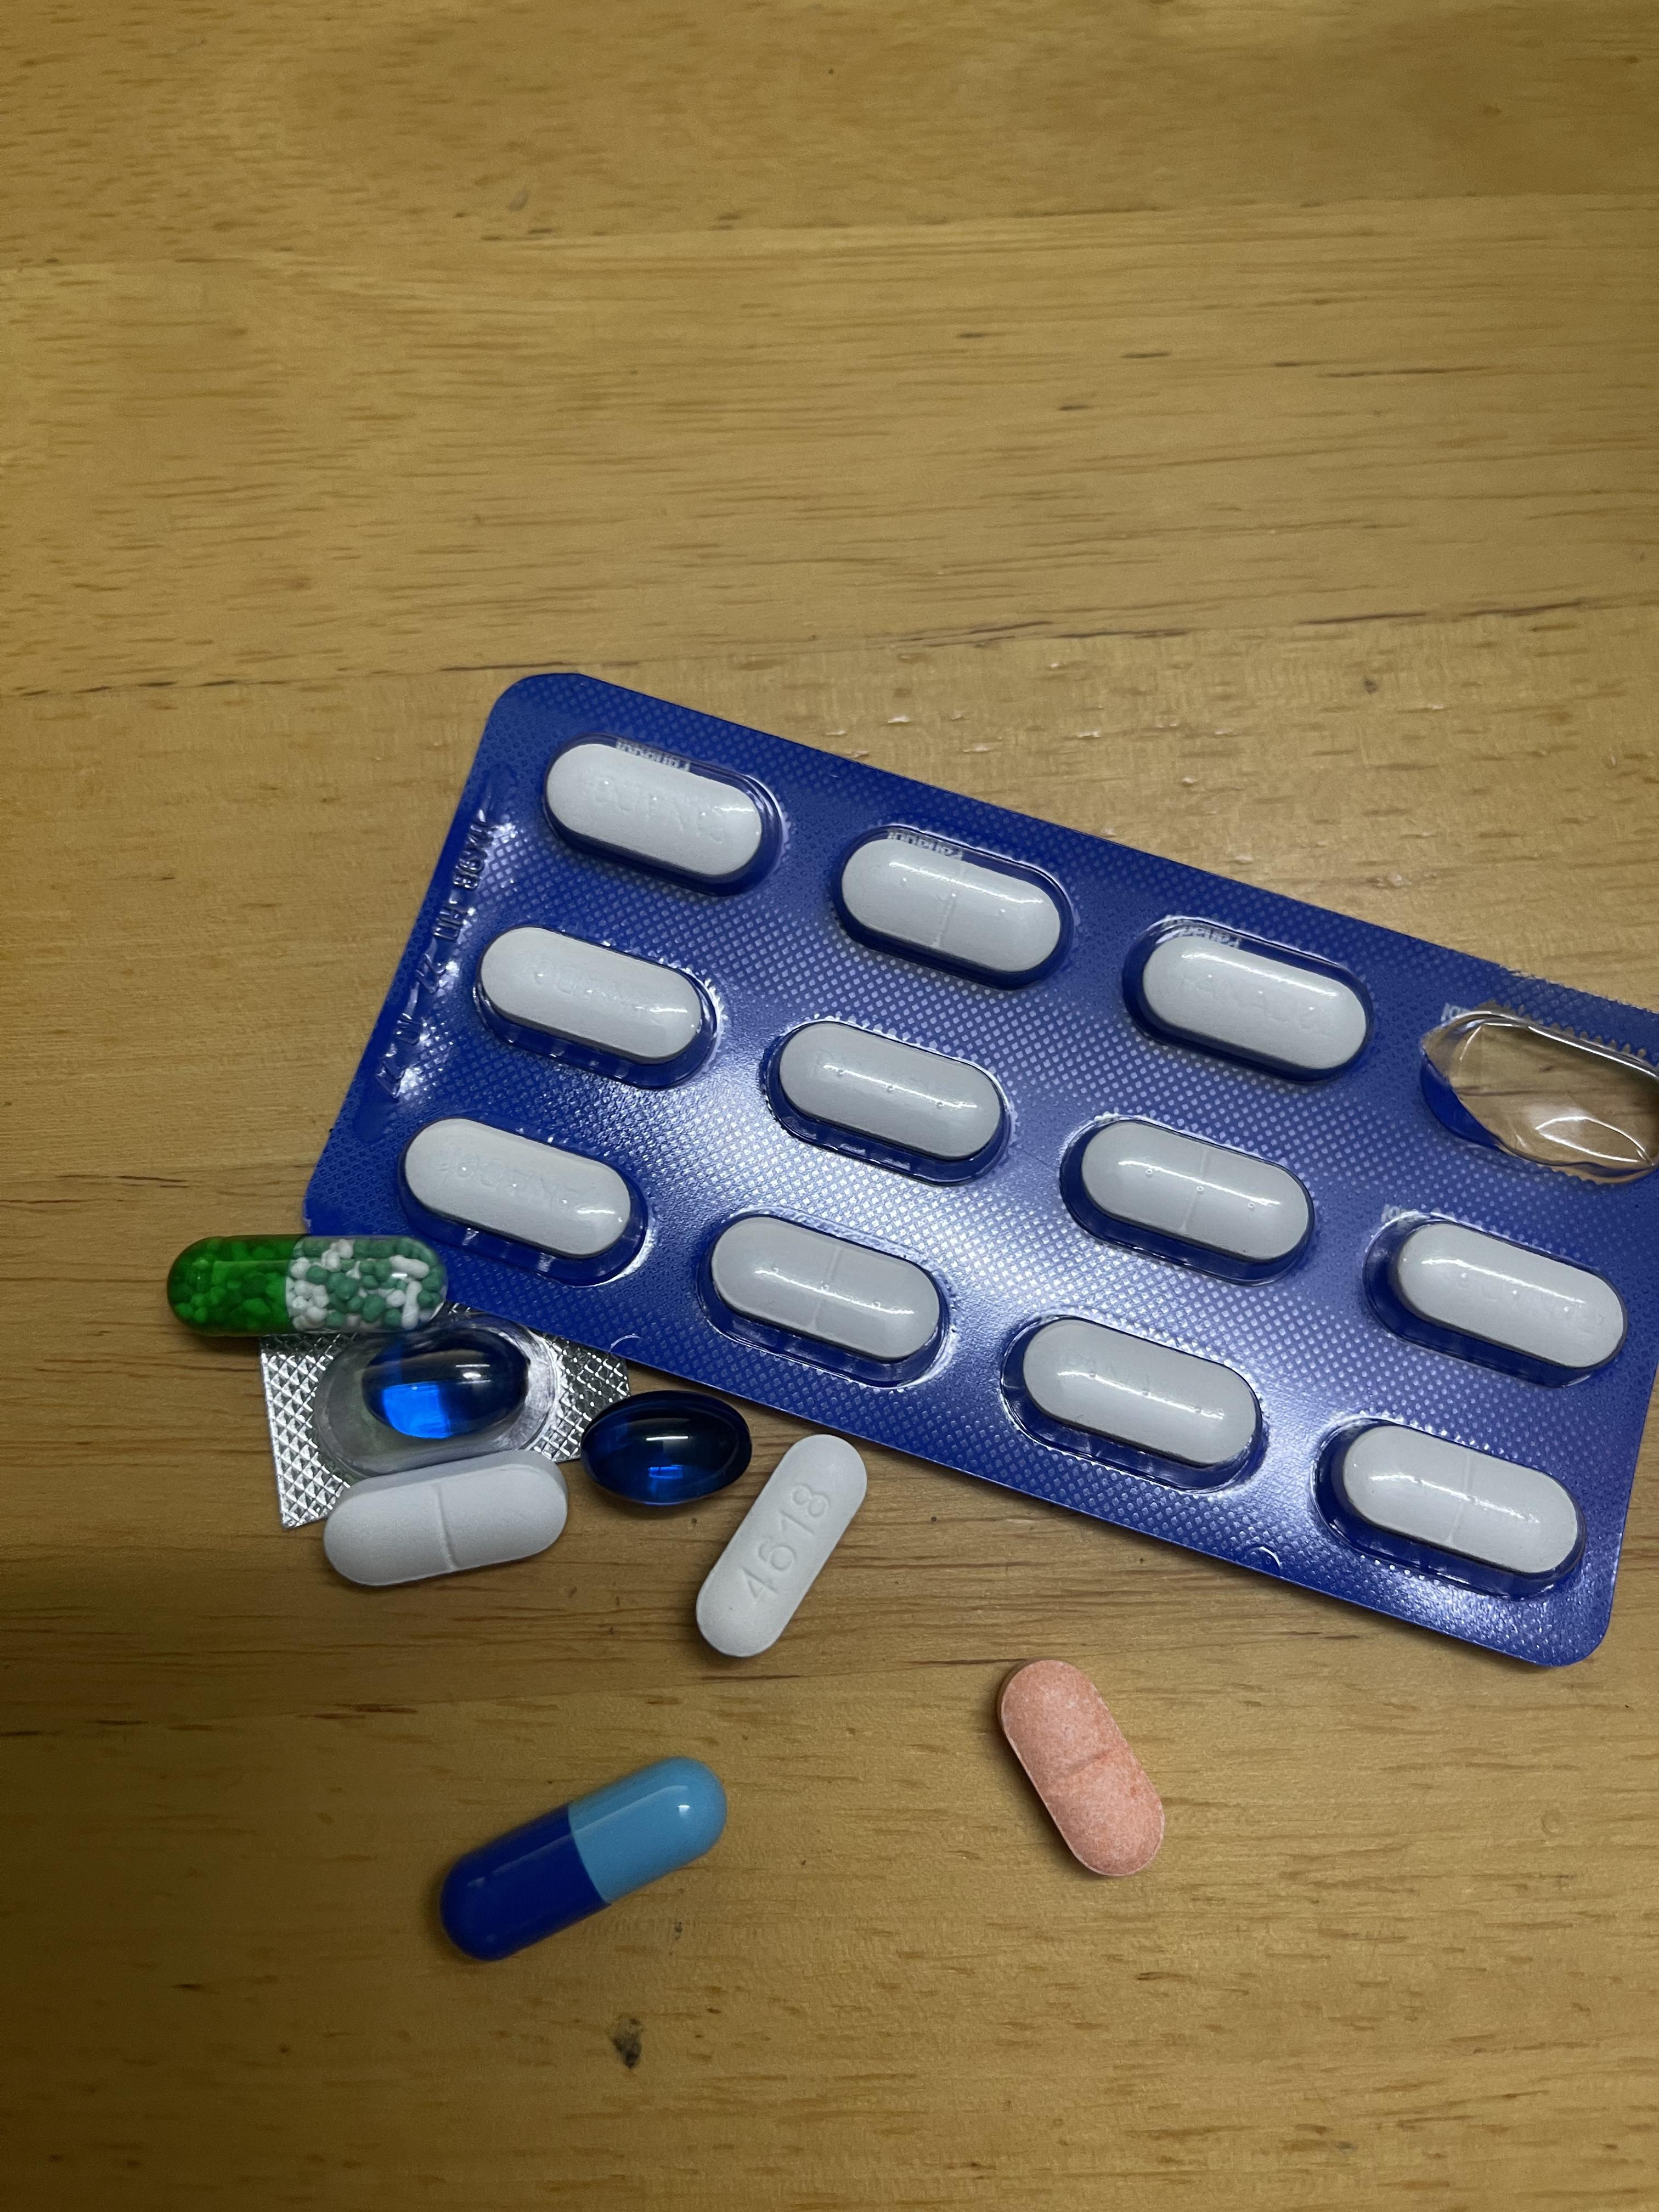Lincomyxin_500mg: (350, 1331, 528, 1444), (582, 1400, 748, 1508)
Loratadine_10mg: (997, 1660, 1164, 1878)
Paracetamol_350mg: (1363, 1212, 1636, 1390), (1323, 1421, 1591, 1594), (701, 1211, 955, 1378), (763, 1017, 1018, 1181), (401, 1115, 647, 1282), (833, 824, 1082, 986), (1066, 1116, 1316, 1278), (544, 733, 791, 895), (1119, 914, 1364, 1075), (1019, 1315, 1260, 1479), (474, 925, 716, 1080), (322, 1465, 568, 1587)
Paracetamol_500mg: (694, 1437, 866, 1658)
Paracetamol_650mg: (173, 1233, 439, 1338)
pill: (443, 1761, 720, 1963)
